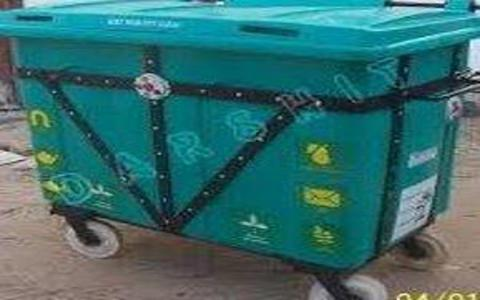Proper garbage: (3, 2, 460, 300)
